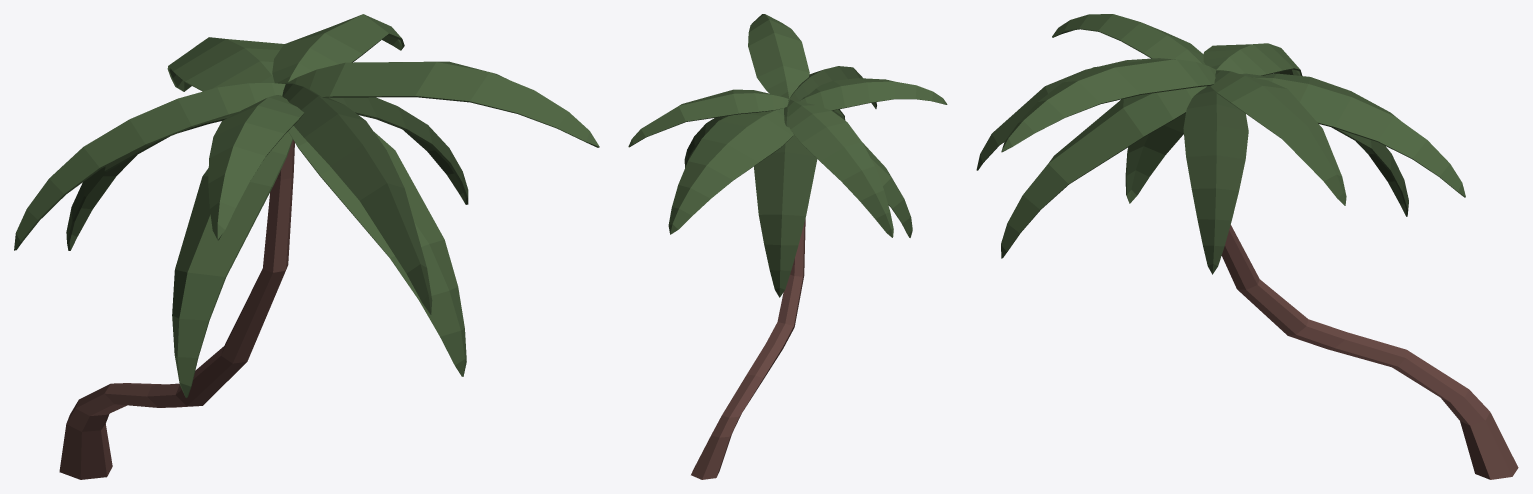
Rendered from PalmTree_2.glb.
3 views of the same model, side by side, from view 1: azimuth 30°, elevation 25°; view 2: azimuth 150°, elevation 25°; view 3: azimuth 270°, elevation 25° (orthographic). The views are drawn at different scales.
Parts seen in each view (by area): view 1: PalmTree; view 2: PalmTree; view 3: PalmTree.
Boxes of the visible parts, bbox=[...] form: PalmTree: bbox=[14, 14, 599, 479]; PalmTree: bbox=[628, 14, 947, 479]; PalmTree: bbox=[976, 14, 1518, 479].
Size of the model in its own units: 2.32 by 2.91 by 3.18.
